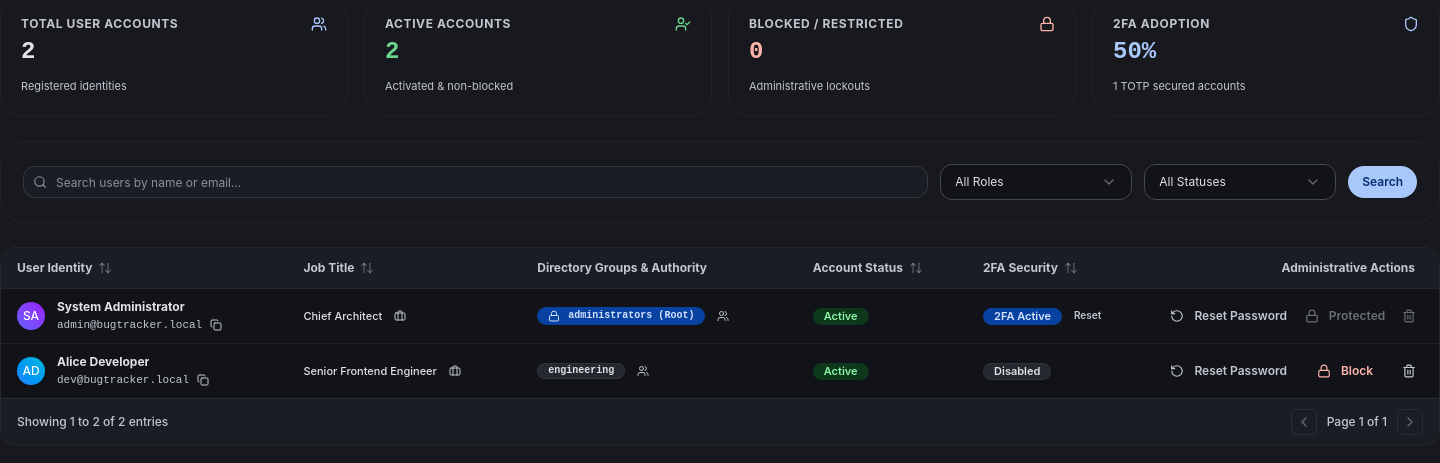
Test: AdminUsersTab Component › provides copy email functionality with clipboard feedback
Click the button titled "Copy email to clipboard" next to "admin@bugtracker.local": (216, 325) [208,317,224,333]
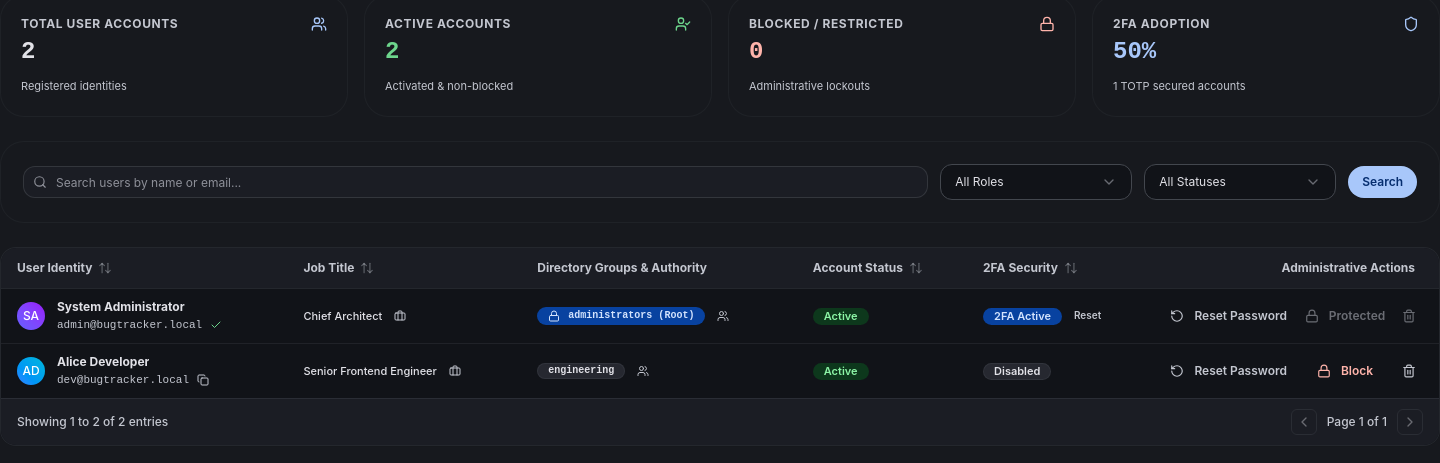
Expected: the button titled "Copied to clipboard!" is shown, [208,317,224,333]
